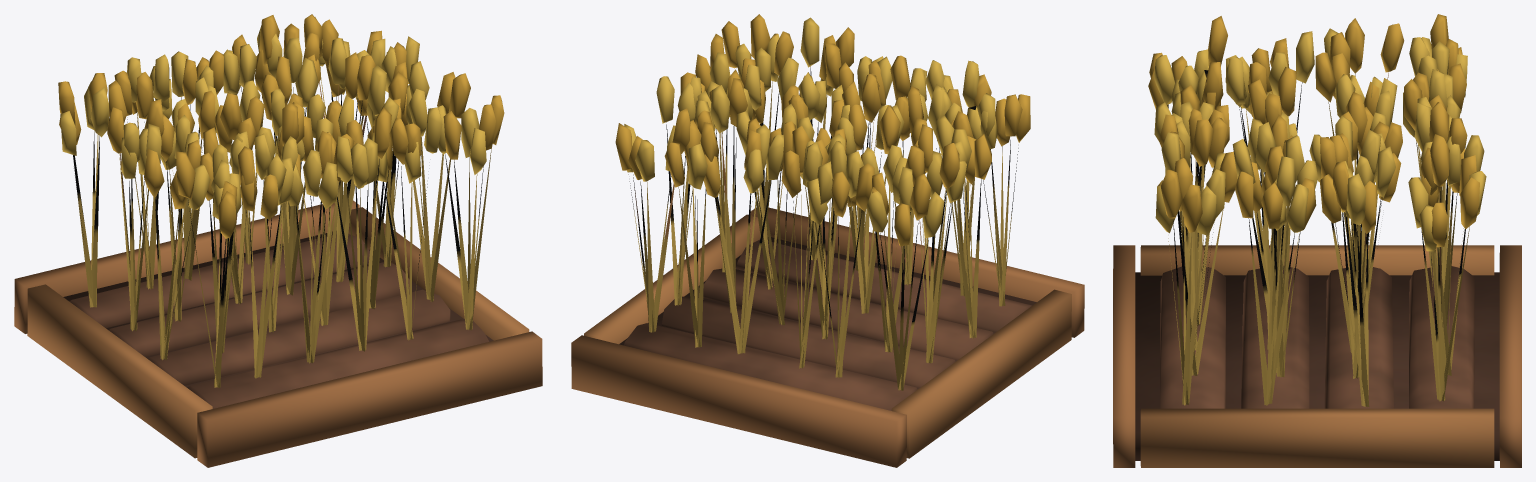
Rendered from crop_wheat_3.glb.
3 renders of one model, left to right at view 1: azimuth 30°, elevation 25°; view 2: azimuth 150°, elevation 25°; view 3: azimuth 270°, elevation 25°, orthographic. The views are drawn at different scales.
Parts seen in each view (by area): view 1: bed; view 2: bed; view 3: bed.
Part boxes in pixels (<box>): bed: <box>14,14,542,467</box>; bed: <box>571,14,1084,467</box>; bed: <box>1113,14,1521,467</box>.
Size of the model in its own units: 1.49 by 1.18 by 1.48.
Materials: 1 (1 with a texture image).
